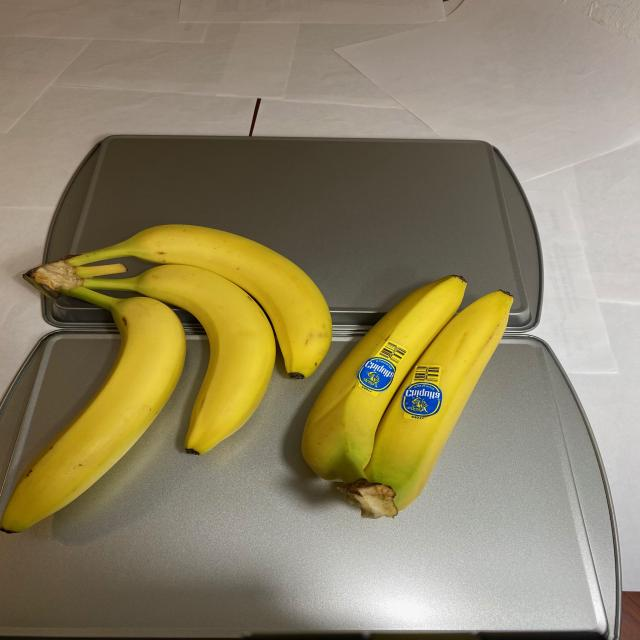banana: (8, 230, 339, 546), (284, 276, 524, 528)
